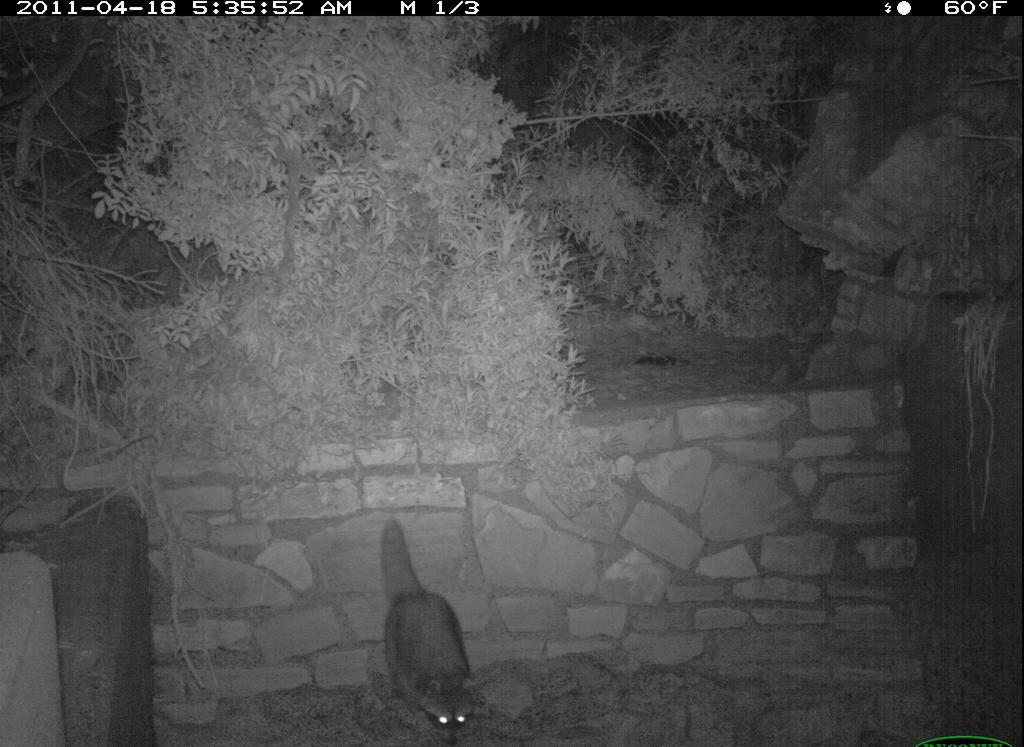raccoon: (379, 514, 493, 745)
